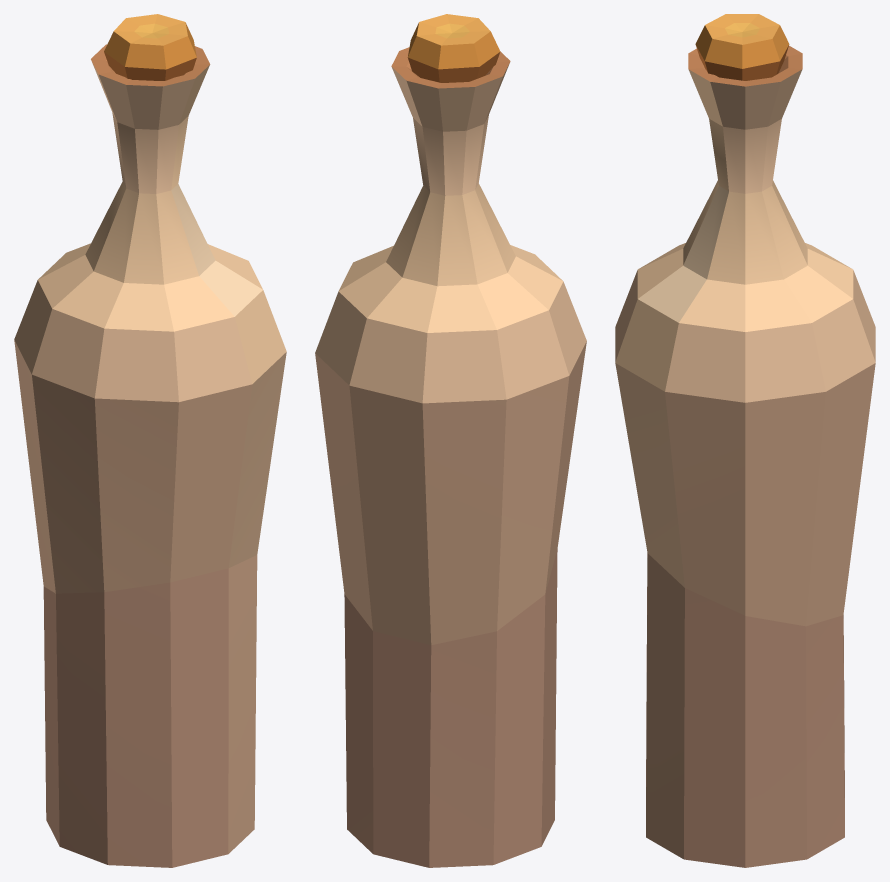
Rendered from bottle_IV.fbx.
3 renders of one model, left to right at view 1: azimuth 30°, elevation 25°; view 2: azimuth 150°, elevation 25°; view 3: azimuth 270°, elevation 25°, orthographic.
Visible parts, largest first — view 1: bottle; view 2: bottle; view 3: bottle.
Part boxes in pixels (box(x1,y1,x2,y2)): bottle: box(14, 14, 286, 867); bottle: box(315, 14, 586, 867); bottle: box(615, 14, 875, 867).
Bounding box in the file's own units: 8.08 × 25.87 × 7.68.
